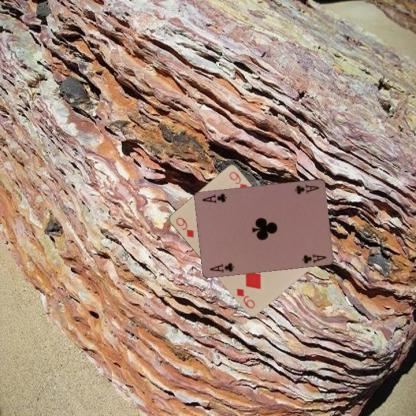9d: (172, 214, 194, 239)
Ac: (292, 182, 321, 196), (208, 260, 235, 274)
